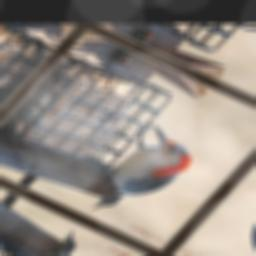Woodpecker: (66, 118, 205, 228)
